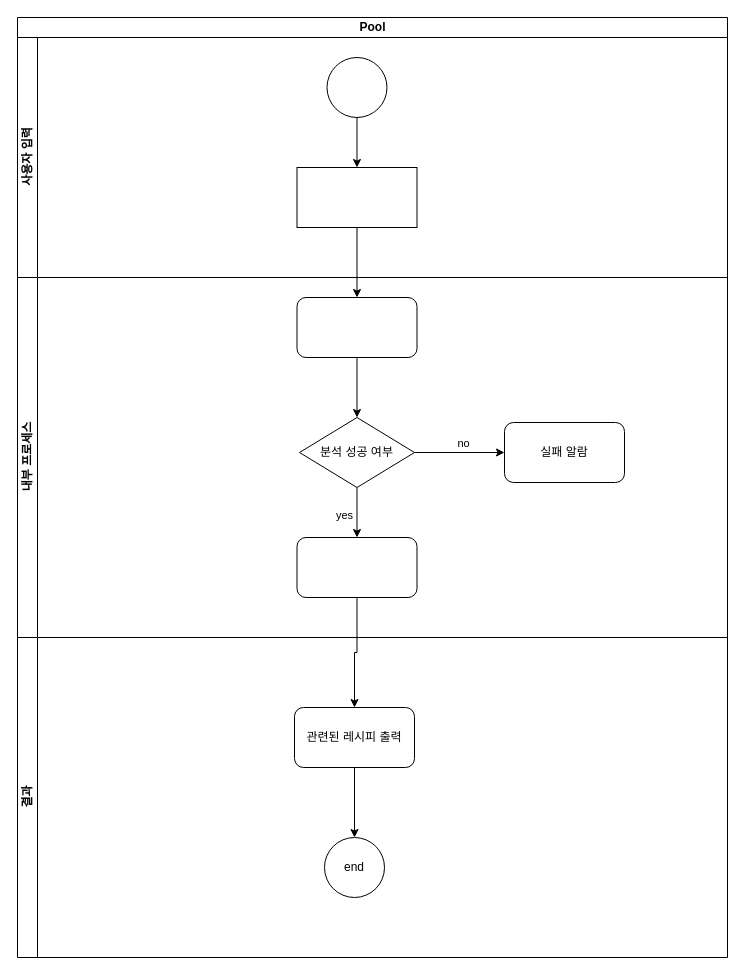
The diagram is 745 pixels wide and 975 high, and some of its shapes have lost their labels. Each missing label, with the centre of its shape:
"start" goes at point 356,87.
"딥러닝" goes at point 356,327.
"분석 결과와 관련된 레시피를 DB에서 검색" goes at point 356,567.
"이미지/텍스트 입력" goes at point 356,197.
